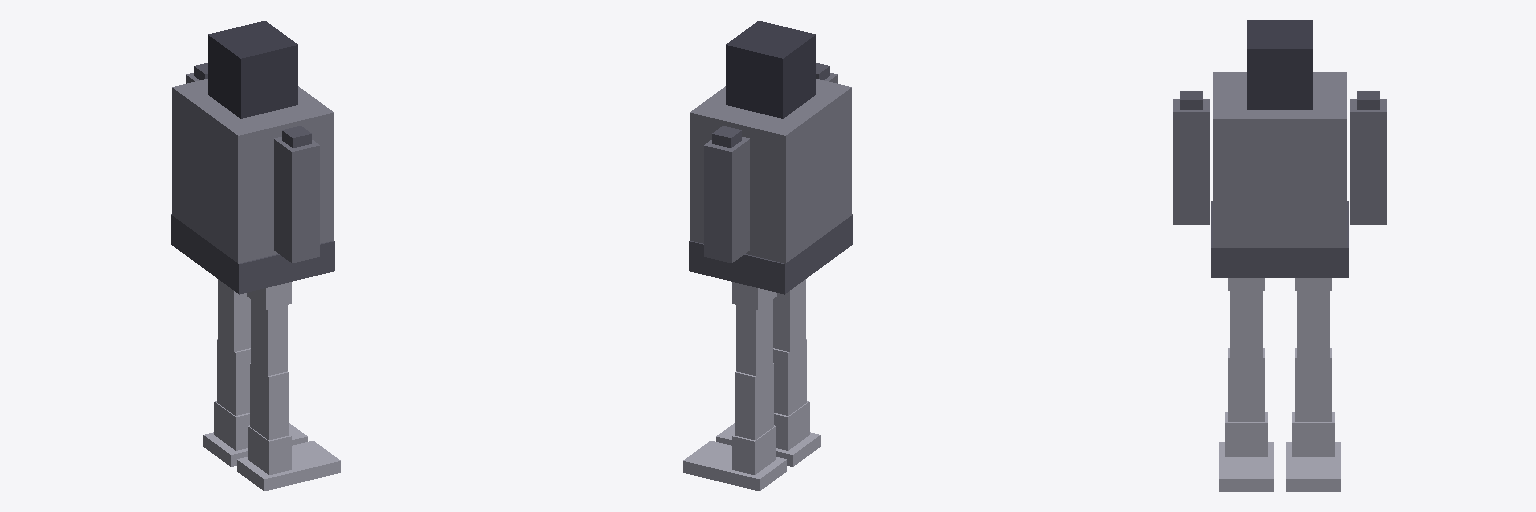
URDF robot description (humanoid):
<?xml version="1.0"?>
<!-- humanoid_latest.urdf
     Base link = torso (old pelvis + torso merged, one part).
     Torso frame = old pelvis centre, so hip joint origins are unchanged.
     Masses as given by user; inertias scaled to match. Knee range = full servo travel (+-90 deg). -->
<robot name="humanoid">
  <!-- torso: pelvis box (bottom) + upper box, 0.5 kg, CoM 0.0994 m above frame -->
  <link name="torso">
    <visual><origin xyz="0 0 0"/><geometry><box size="0.2 0.247 0.06"/></geometry><material name="torso_low_m"><color rgba="0.4 0.4 0.45 1"/></material></visual>
    <visual><origin xyz="0 0 0.1575"/><geometry><box size="0.2 0.24 0.255"/></geometry><material name="torso_m"><color rgba="0.55 0.55 0.6 1"/></material></visual>
    <collision><origin xyz="0 0 0"/><geometry><box size="0.2 0.247 0.06"/></geometry></collision>
    <collision><origin xyz="0 0 0.1575"/><geometry><box size="0.2 0.24 0.255"/></geometry></collision>
    <inertial><origin xyz="0 0 0.099388"/><mass value="0.5"/><inertia ixx="0.0071053" iyy="0.0063195" izz="0.0041192" ixy="0" ixz="0" iyz="0"/></inertial>
  </link>
  <link name="head">
    <visual><origin xyz="0 0 0"/><geometry><box size="0.12 0.12 0.12"/></geometry><material name="head_m"><color rgba="0.3 0.3 0.35 1"/></material></visual>
    <collision><origin xyz="0 0 0"/><geometry><box size="0.12 0.12 0.12"/></geometry></collision>
    <inertial><origin xyz="0 0 0"/><mass value="0.092"/><inertia ixx="0.0002208" iyy="0.0002208" izz="0.0002208" ixy="0" ixz="0" iyz="0"/></inertial>
  </link>
  <joint name="neck_fixed" type="fixed"><parent link="torso"/><child link="head"/><origin xyz="0 0 0.345"/></joint>
  <!-- R_shoulder_pitch = ch3 -->
  <joint name="R_shoulder_pitch" type="revolute"><parent link="torso"/><child link="R_shoulder"/><origin xyz="0 -0.1585 0.265"/><axis xyz="0 1 0"/><limit lower="-1.57" upper="1.57" effort="1.08" velocity="6.0"/></joint>
  <link name="R_shoulder">
    <visual><origin xyz="0 0 0"/><geometry><box size="0.04 0.04 0.04"/></geometry><material name="R_shoulder_m"><color rgba="0.4 0.4 0.45 1"/></material></visual>
    <collision><origin xyz="0 0 0"/><geometry><box size="0.04 0.04 0.04"/></geometry></collision>
    <inertial><origin xyz="0 0 0"/><mass value="0.03"/><inertia ixx="8.0002e-06" iyy="8.0002e-06" izz="8.0002e-06" ixy="0" ixz="0" iyz="0"/></inertial>
  </link>
  <!-- R_arm_roll = 17th servo (2nd PCA9685) -->
  <joint name="R_arm_roll" type="revolute"><parent link="R_shoulder"/><child link="R_arm"/><origin xyz="0 0 0"/><axis xyz="-1 0 0"/><limit lower="-0.2" upper="1.57" effort="1.08" velocity="6.0"/></joint>
  <link name="R_arm">
    <visual><origin xyz="0 0 -0.111"/><geometry><box size="0.059 0.067 0.222"/></geometry><material name="R_arm_m"><color rgba="0.5 0.5 0.55 1"/></material></visual>
    <collision><origin xyz="0 0 -0.111"/><geometry><box size="0.059 0.067 0.222"/></geometry></collision>
    <inertial><origin xyz="0 0 -0.111"/><mass value="0.1"/><inertia ixx="0.00044811" iyy="0.0004397" izz="6.6417e-05" ixy="0" ixz="0" iyz="0"/></inertial>
  </link>
  <!-- L_shoulder_pitch = ch1 -->
  <joint name="L_shoulder_pitch" type="revolute"><parent link="torso"/><child link="L_shoulder"/><origin xyz="0 0.1585 0.265"/><axis xyz="0 1 0"/><limit lower="-1.57" upper="1.57" effort="1.08" velocity="6.0"/></joint>
  <link name="L_shoulder">
    <visual><origin xyz="0 0 0"/><geometry><box size="0.04 0.04 0.04"/></geometry><material name="L_shoulder_m"><color rgba="0.4 0.4 0.45 1"/></material></visual>
    <collision><origin xyz="0 0 0"/><geometry><box size="0.04 0.04 0.04"/></geometry></collision>
    <inertial><origin xyz="0 0 0"/><mass value="0.03"/><inertia ixx="8.0002e-06" iyy="8.0002e-06" izz="8.0002e-06" ixy="0" ixz="0" iyz="0"/></inertial>
  </link>
  <!-- L_arm_roll = ch4 -->
  <joint name="L_arm_roll" type="revolute"><parent link="L_shoulder"/><child link="L_arm"/><origin xyz="0 0 0"/><axis xyz="1 0 0"/><limit lower="-0.2" upper="1.57" effort="1.08" velocity="6.0"/></joint>
  <link name="L_arm">
    <visual><origin xyz="0 0 -0.111"/><geometry><box size="0.059 0.067 0.222"/></geometry><material name="L_arm_m"><color rgba="0.5 0.5 0.55 1"/></material></visual>
    <collision><origin xyz="0 0 -0.111"/><geometry><box size="0.059 0.067 0.222"/></geometry></collision>
    <inertial><origin xyz="0 0 -0.111"/><mass value="0.1"/><inertia ixx="0.00044811" iyy="0.0004397" izz="6.6417e-05" ixy="0" ixz="0" iyz="0"/></inertial>
  </link>
  <!-- R_hip_roll = PCA9685 ch6 -->
  <joint name="R_hip_roll" type="revolute"><parent link="torso"/><child link="R_hip"/><origin xyz="0 -0.06 -0.03"/><axis xyz="1 0 0"/><limit lower="-0.6" upper="0.6" effort="1.08" velocity="6.0"/></joint>
  <link name="R_hip">
    <visual><origin xyz="0 0 -0.03"/><geometry><box size="0.054 0.067 0.06"/></geometry><material name="R_hip_m"><color rgba="0.7 0.7 0.75 1"/></material></visual>
    <collision><origin xyz="0 0 -0.03"/><geometry><box size="0.054 0.067 0.06"/></geometry></collision>
    <inertial><origin xyz="0 0 -0.03"/><mass value="0.028"/><inertia ixx="8.8318e-05" iyy="7.1144e-05" izz="8.085e-05" ixy="0" ixz="0" iyz="0"/></inertial>
  </link>
  <!-- R_hip_pitch = PCA9685 ch7 -->
  <joint name="R_hip_pitch" type="revolute"><parent link="R_hip"/><child link="R_thigh"/><origin xyz="0 0 -0.06"/><axis xyz="0 1 0"/><limit lower="-1.5" upper="1.5" effort="1.08" velocity="6.0"/></joint>
  <link name="R_thigh">
    <visual><origin xyz="0 0 -0.0675"/><geometry><box size="0.043 0.059 0.135"/></geometry><material name="R_thigh_m"><color rgba="0.7 0.7 0.75 1"/></material></visual>
    <collision><origin xyz="0 0 -0.0675"/><geometry><box size="0.043 0.059 0.135"/></geometry></collision>
    <inertial><origin xyz="0 0 -0.0675"/><mass value="0.098"/><inertia ixx="0.00026899" iyy="0.00024877" izz="6.6052e-05" ixy="0" ixz="0" iyz="0"/></inertial>
  </link>
  <!-- R_knee = PCA9685 ch8 -->
  <joint name="R_knee" type="revolute"><parent link="R_thigh"/><child link="R_shin"/><origin xyz="0 0 -0.135"/><axis xyz="0 1 0"/><limit lower="-1.57" upper="1.57" effort="1.08" velocity="6.0"/></joint>
  <link name="R_shin">
    <visual><origin xyz="0 0 -0.063"/><geometry><box size="0.043 0.068 0.126"/></geometry><material name="R_shin_m"><color rgba="0.7 0.7 0.75 1"/></material></visual>
    <collision><origin xyz="0 0 -0.063"/><geometry><box size="0.043 0.068 0.126"/></geometry></collision>
    <inertial><origin xyz="0 0 -0.063"/><mass value="0.083"/><inertia ixx="0.00023613" iyy="0.00020416" izz="7.4558e-05" ixy="0" ixz="0" iyz="0"/></inertial>
  </link>
  <!-- R_ankle_pitch = PCA9685 ch9 -->
  <joint name="R_ankle_pitch" type="revolute"><parent link="R_shin"/><child link="R_ankle"/><origin xyz="0 0 -0.126"/><axis xyz="0 1 0"/><limit lower="-1.0" upper="1.0" effort="1.08" velocity="6.0"/></joint>
  <link name="R_ankle">
    <visual><origin xyz="0 0 -0.0335"/><geometry><box size="0.047 0.078 0.067"/></geometry><material name="R_ankle_m"><color rgba="0.7 0.7 0.75 1"/></material></visual>
    <collision><origin xyz="0 0 -0.0335"/><geometry><box size="0.047 0.078 0.067"/></geometry></collision>
    <inertial><origin xyz="0 0 -0.0335"/><mass value="0.049"/><inertia ixx="9.1315e-05" iyy="5.7848e-05" izz="7.1624e-05" ixy="0" ixz="0" iyz="0"/></inertial>
  </link>
  <!-- R_foot_roll = PCA9685 ch10 -->
  <joint name="R_foot_roll" type="revolute"><parent link="R_ankle"/><child link="R_foot"/><origin xyz="0 0 -0.067"/><axis xyz="1 0 0"/><limit lower="-0.6" upper="0.6" effort="1.08" velocity="6.0"/></joint>
  <link name="R_foot">
    <visual><origin xyz="0.04 0 -0.012"/><geometry><box size="0.16 0.1 0.024"/></geometry><material name="R_foot_m"><color rgba="0.7 0.7 0.75 1"/></material></visual>
    <collision><origin xyz="0.04 0 -0.012"/><geometry><box size="0.16 0.1 0.024"/></geometry></collision>
    <inertial><origin xyz="0.04 0 -0.012"/><mass value="0.19881"/><inertia ixx="0.00013996" iyy="0.00034642" izz="0.00047114" ixy="0" ixz="0" iyz="0"/></inertial>
  </link>
  <!-- L_hip_roll = PCA9685 ch11 -->
  <joint name="L_hip_roll" type="revolute"><parent link="torso"/><child link="L_hip"/><origin xyz="0 0.06 -0.03"/><axis xyz="1 0 0"/><limit lower="-0.6" upper="0.6" effort="1.08" velocity="6.0"/></joint>
  <link name="L_hip">
    <visual><origin xyz="0 0 -0.03"/><geometry><box size="0.054 0.067 0.06"/></geometry><material name="L_hip_m"><color rgba="0.7 0.7 0.75 1"/></material></visual>
    <collision><origin xyz="0 0 -0.03"/><geometry><box size="0.054 0.067 0.06"/></geometry></collision>
    <inertial><origin xyz="0 0 -0.03"/><mass value="0.028"/><inertia ixx="8.8318e-05" iyy="7.1144e-05" izz="8.085e-05" ixy="0" ixz="0" iyz="0"/></inertial>
  </link>
  <!-- L_hip_pitch = PCA9685 ch12 -->
  <joint name="L_hip_pitch" type="revolute"><parent link="L_hip"/><child link="L_thigh"/><origin xyz="0 0 -0.06"/><axis xyz="0 1 0"/><limit lower="-1.5" upper="1.5" effort="1.08" velocity="6.0"/></joint>
  <link name="L_thigh">
    <visual><origin xyz="0 0 -0.0675"/><geometry><box size="0.043 0.059 0.135"/></geometry><material name="L_thigh_m"><color rgba="0.7 0.7 0.75 1"/></material></visual>
    <collision><origin xyz="0 0 -0.0675"/><geometry><box size="0.043 0.059 0.135"/></geometry></collision>
    <inertial><origin xyz="0 0 -0.0675"/><mass value="0.093"/><inertia ixx="0.00026899" iyy="0.00024877" izz="6.6052e-05" ixy="0" ixz="0" iyz="0"/></inertial>
  </link>
  <!-- L_knee = PCA9685 ch13 -->
  <joint name="L_knee" type="revolute"><parent link="L_thigh"/><child link="L_shin"/><origin xyz="0 0 -0.135"/><axis xyz="0 1 0"/><limit lower="-1.57" upper="1.57" effort="1.08" velocity="6.0"/></joint>
  <link name="L_shin">
    <visual><origin xyz="0 0 -0.063"/><geometry><box size="0.043 0.068 0.126"/></geometry><material name="L_shin_m"><color rgba="0.7 0.7 0.75 1"/></material></visual>
    <collision><origin xyz="0 0 -0.063"/><geometry><box size="0.043 0.068 0.126"/></geometry></collision>
    <inertial><origin xyz="0 0 -0.063"/><mass value="0.083"/><inertia ixx="0.00023613" iyy="0.00020416" izz="7.4558e-05" ixy="0" ixz="0" iyz="0"/></inertial>
  </link>
  <!-- L_ankle_pitch = PCA9685 ch14 -->
  <joint name="L_ankle_pitch" type="revolute"><parent link="L_shin"/><child link="L_ankle"/><origin xyz="0 0 -0.126"/><axis xyz="0 1 0"/><limit lower="-1.0" upper="1.0" effort="1.08" velocity="6.0"/></joint>
  <link name="L_ankle">
    <visual><origin xyz="0 0 -0.0335"/><geometry><box size="0.047 0.078 0.067"/></geometry><material name="L_ankle_m"><color rgba="0.7 0.7 0.75 1"/></material></visual>
    <collision><origin xyz="0 0 -0.0335"/><geometry><box size="0.047 0.078 0.067"/></geometry></collision>
    <inertial><origin xyz="0 0 -0.0335"/><mass value="0.049"/><inertia ixx="9.1315e-05" iyy="5.7848e-05" izz="7.1624e-05" ixy="0" ixz="0" iyz="0"/></inertial>
  </link>
  <!-- L_foot_roll = PCA9685 ch15 -->
  <joint name="L_foot_roll" type="revolute"><parent link="L_ankle"/><child link="L_foot"/><origin xyz="0 0 -0.067"/><axis xyz="1 0 0"/><limit lower="-0.6" upper="0.6" effort="1.08" velocity="6.0"/></joint>
  <link name="L_foot">
    <visual><origin xyz="0.04 0 -0.012"/><geometry><box size="0.16 0.1 0.024"/></geometry><material name="L_foot_m"><color rgba="0.7 0.7 0.75 1"/></material></visual>
    <collision><origin xyz="0.04 0 -0.012"/><geometry><box size="0.16 0.1 0.024"/></geometry></collision>
    <inertial><origin xyz="0.04 0 -0.012"/><mass value="0.1981"/><inertia ixx="0.00013996" iyy="0.00034642" izz="0.00047114" ixy="0" ixz="0" iyz="0"/></inertial>
  </link>
</robot>

--- Render facts (derived) ---
3 views of the same robot in one strip: view 1: azimuth 30°, elevation 25°; view 2: azimuth 150°, elevation 25°; view 3: azimuth 270°, elevation 25° (orthographic).
Model humanoid with 16 links and 15 joints (14 revolute, 1 fixed), rooted at torso, posed every joint at zero.
Links seen in each view (by area): view 1: torso, head, R_arm, R_shin, R_foot, R_thigh, L_shin, L_thigh, R_ankle, L_ankle, L_foot, R_hip; view 2: torso, head, L_arm, L_shin, L_foot, L_thigh, R_shin, R_thigh, L_ankle, R_ankle, R_foot, L_hip; view 3: torso, head, R_arm, L_arm, R_shin, L_shin, R_thigh, L_thigh, R_foot, L_foot, R_ankle, L_ankle.
Boxes of the visible links, x1,y1,x2,y2 form: torso: (171,79,334,294); head: (208,21,297,118); R_arm: (274,137,319,262); R_shin: (250,363,288,439); R_foot: (237,441,340,490); R_thigh: (251,299,287,375); L_shin: (217,339,250,415); L_thigh: (218,279,250,351); R_ankle: (248,425,291,474); L_ankle: (214,401,249,450); L_foot: (203,423,307,466); R_hip: (247,282,291,309); torso: (689,79,852,294); head: (726,21,815,118); L_arm: (704,137,749,262); L_shin: (735,363,773,439); L_foot: (683,441,786,490); L_thigh: (736,299,772,375); R_shin: (773,339,806,415); R_thigh: (773,279,805,351); L_ankle: (732,425,775,474); R_ankle: (774,401,809,450); R_foot: (716,423,820,466); L_hip: (732,282,776,309); torso: (1211,72,1348,277); head: (1247,20,1312,109); R_arm: (1173,99,1209,224); L_arm: (1350,99,1386,224); R_shin: (1228,348,1264,421); L_shin: (1295,348,1331,421); R_thigh: (1230,291,1262,357); L_thigh: (1297,291,1329,357); R_foot: (1219,442,1273,491); L_foot: (1286,442,1340,491); R_ankle: (1225,412,1267,456); L_ankle: (1292,412,1334,456).
Bounding box of the posed robot: 0.22 × 0.384 × 0.847 m (x, y, z).
Geometry: primitives only (box / cylinder / sphere), no mesh files.
